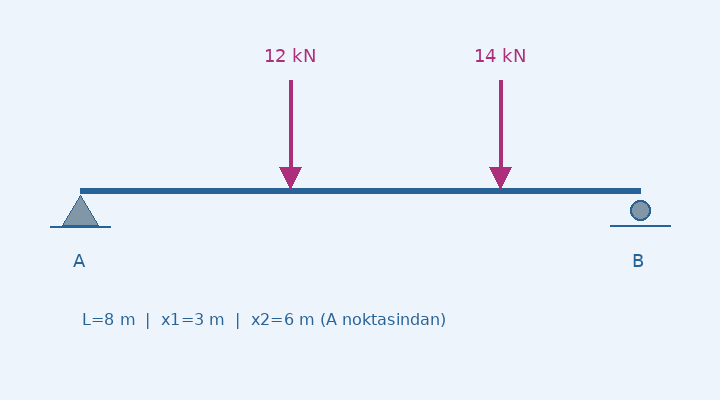pin_support: (61, 190, 99, 226)
point_load: (276, 76, 304, 190), (486, 76, 514, 190)
roller_support: (625, 196, 655, 227)
